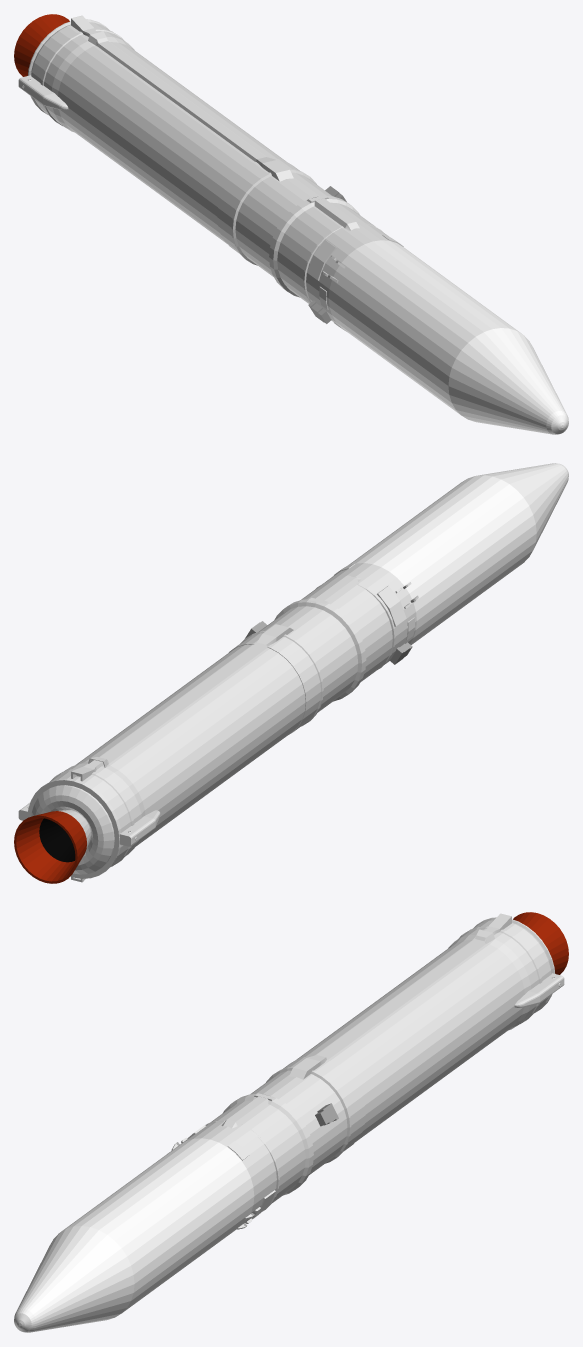
The model's file is jaxa_epsilon_rocket.glb.
3 views of the same model, one above another, from view 1: azimuth 30°, elevation 25°; view 2: azimuth 150°, elevation 25°; view 3: azimuth 330°, elevation 25° (orthographic).
Visible parts, largest first — view 1: 1st Stage_3, Fairing_4, 2nd Stage_2, Fairing.001_6; view 2: 1st Stage_3, Fairing_4, 2nd Stage_2; view 3: 1st Stage_3, Fairing.001_6, Fairing_4, 2nd Stage_2.
Boxes of the visible parts, left/top/right/bottom form: 1st Stage_3: left=14, top=14, right=351, bottom=290; Fairing_4: left=328, top=240, right=564, bottom=433; 2nd Stage_2: left=273, top=198, right=403, bottom=331; Fairing.001_6: left=399, top=244, right=568, bottom=434; 1st Stage_3: left=14, top=597, right=366, bottom=883; Fairing_4: left=350, top=463, right=568, bottom=644; 2nd Stage_2: left=301, top=563, right=418, bottom=681; 1st Stage_3: left=231, top=912, right=568, bottom=1188; Fairing.001_6: left=18, top=1153, right=254, bottom=1332; Fairing_4: left=14, top=1138, right=234, bottom=1328; 2nd Stage_2: left=171, top=1096, right=309, bottom=1229.
Bounding box in the file's own units: 0.609 × 0.5554 × 4.81.
